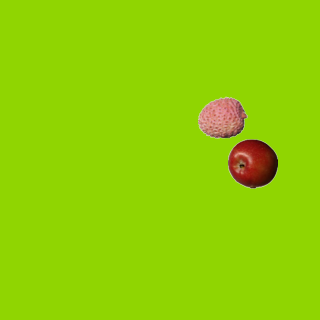Apple Braeburn: (227, 138, 277, 188)
Lychee: (197, 92, 247, 142)
